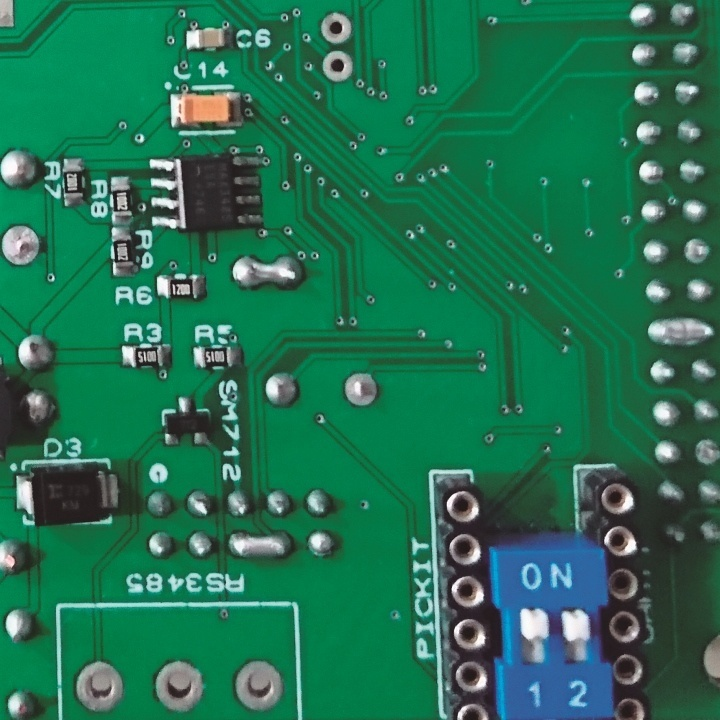F: (153, 655, 210, 715), (229, 654, 286, 714), (71, 659, 124, 714), (1, 223, 50, 272), (340, 367, 381, 413), (317, 11, 355, 47), (322, 50, 355, 86), (630, 79, 663, 109), (636, 158, 670, 186), (695, 438, 720, 471), (685, 239, 713, 266)
P: (230, 251, 306, 296), (225, 531, 303, 564), (643, 315, 720, 348)
